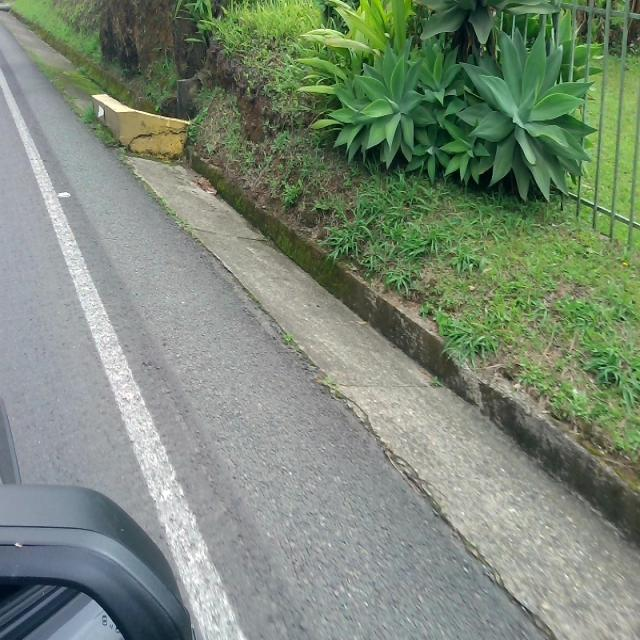DITCH: (2, 5, 637, 638)
